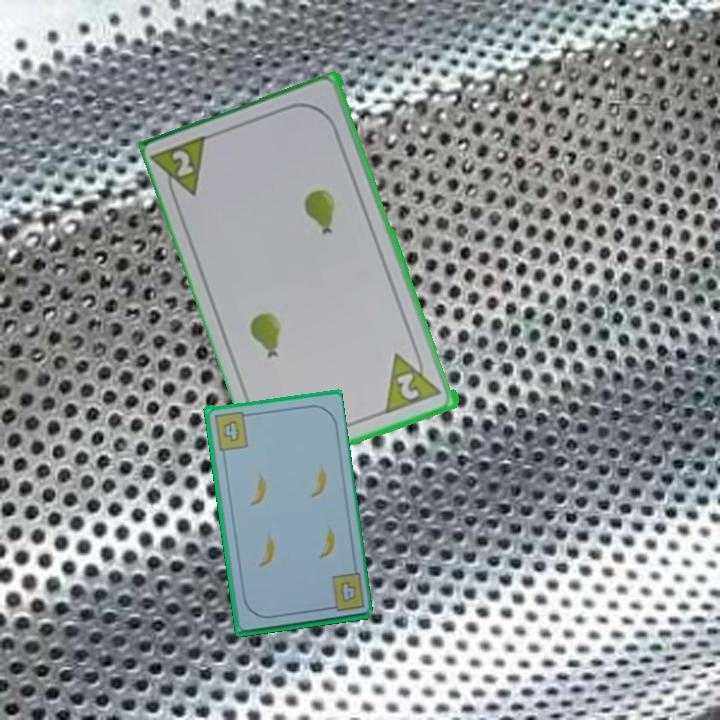2p: (151, 131, 214, 207), (382, 343, 447, 416)
4b: (322, 569, 367, 615), (210, 407, 253, 453)
